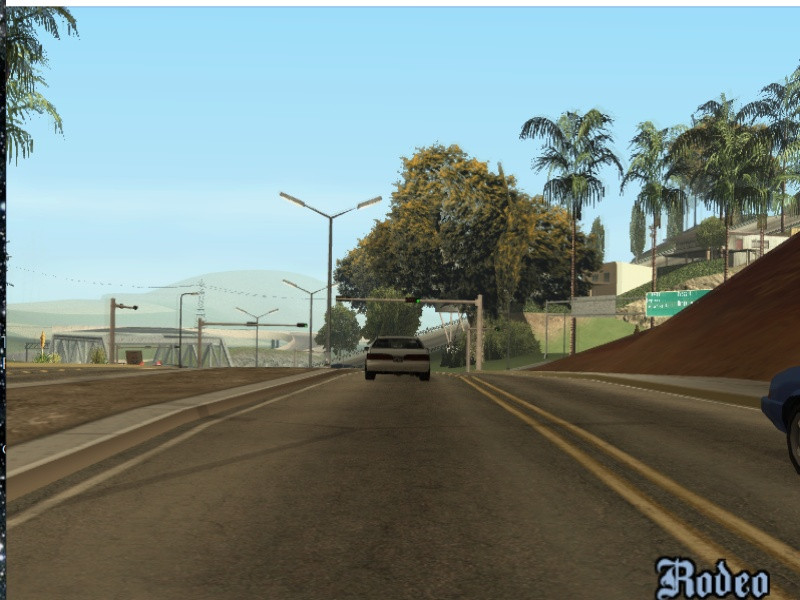pole: (324, 217, 335, 367), (475, 298, 488, 374), (195, 323, 207, 368), (308, 294, 315, 370), (176, 293, 183, 366)
vehicle: (361, 333, 432, 383)
